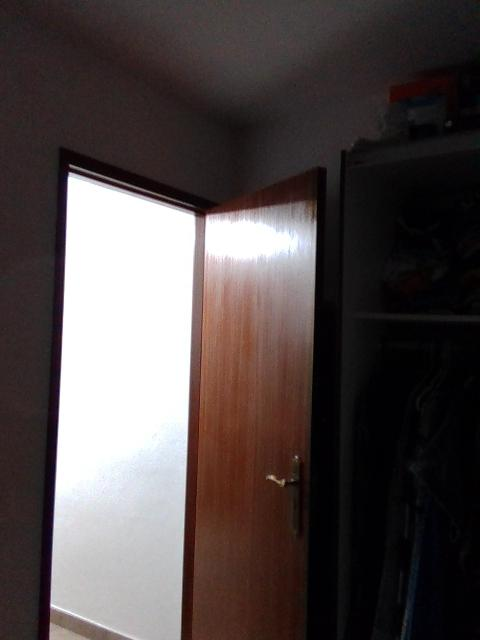open_door: (42, 146, 227, 639)
